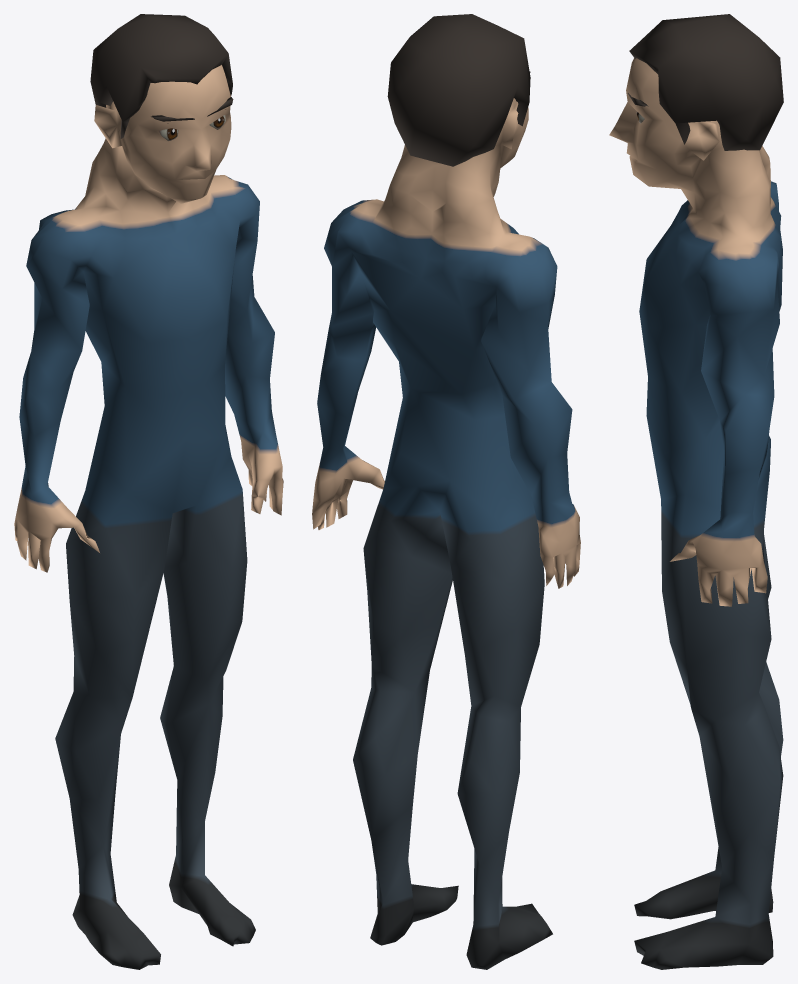
The model's file is npc_staff.glb.
The picture shows the model from 3 angles, left to right: view 1: azimuth 30°, elevation 25°; view 2: azimuth 150°, elevation 25°; view 3: azimuth 270°, elevation 25°; orthographic projection.
Visible parts, largest first — view 1: npc_staff; view 2: npc_staff; view 3: npc_staff.
Boxes of the visible parts, x1,y1,x2,y2 form: npc_staff: (14,14,283,969); npc_staff: (312,14,580,969); npc_staff: (609,14,783,969).
Size of the model in its own units: 0.4587 by 1.6 by 0.2759.
1 material, 1 textured.
